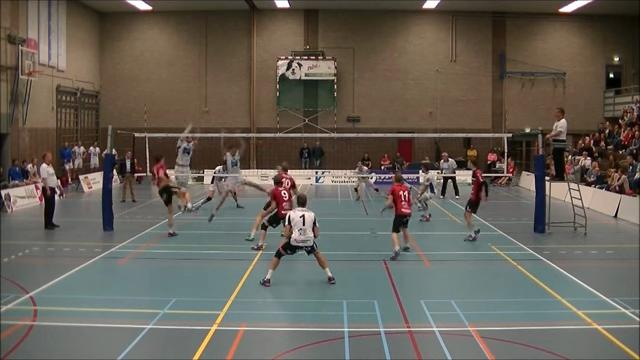Attack: (145, 153, 202, 239)
Block: (206, 123, 270, 221), (168, 119, 201, 216)
Player: (260, 194, 335, 286), (251, 174, 292, 250), (380, 172, 411, 259), (464, 159, 487, 240), (194, 162, 226, 209), (417, 161, 435, 220), (245, 200, 270, 240), (354, 162, 378, 200)
